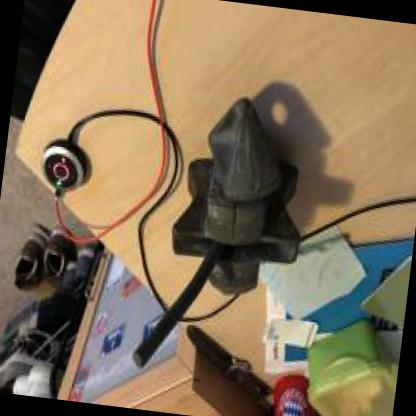Twistlock: (123, 79, 321, 394)
